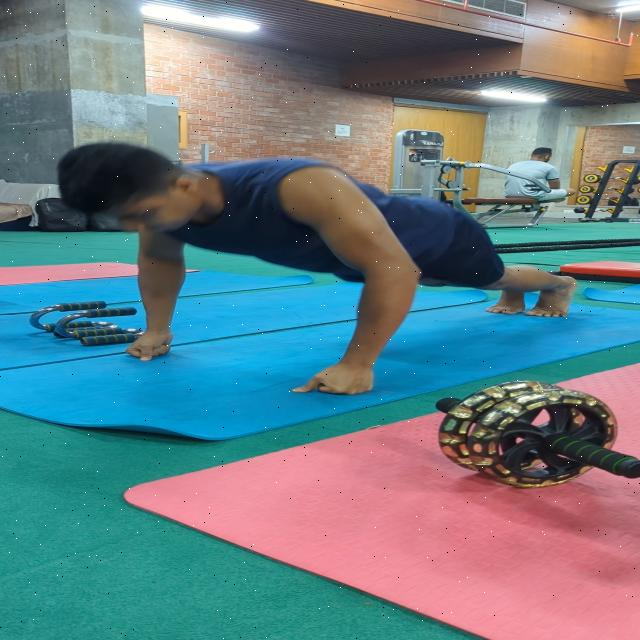Normal_PushUps: (15, 142, 616, 403)
